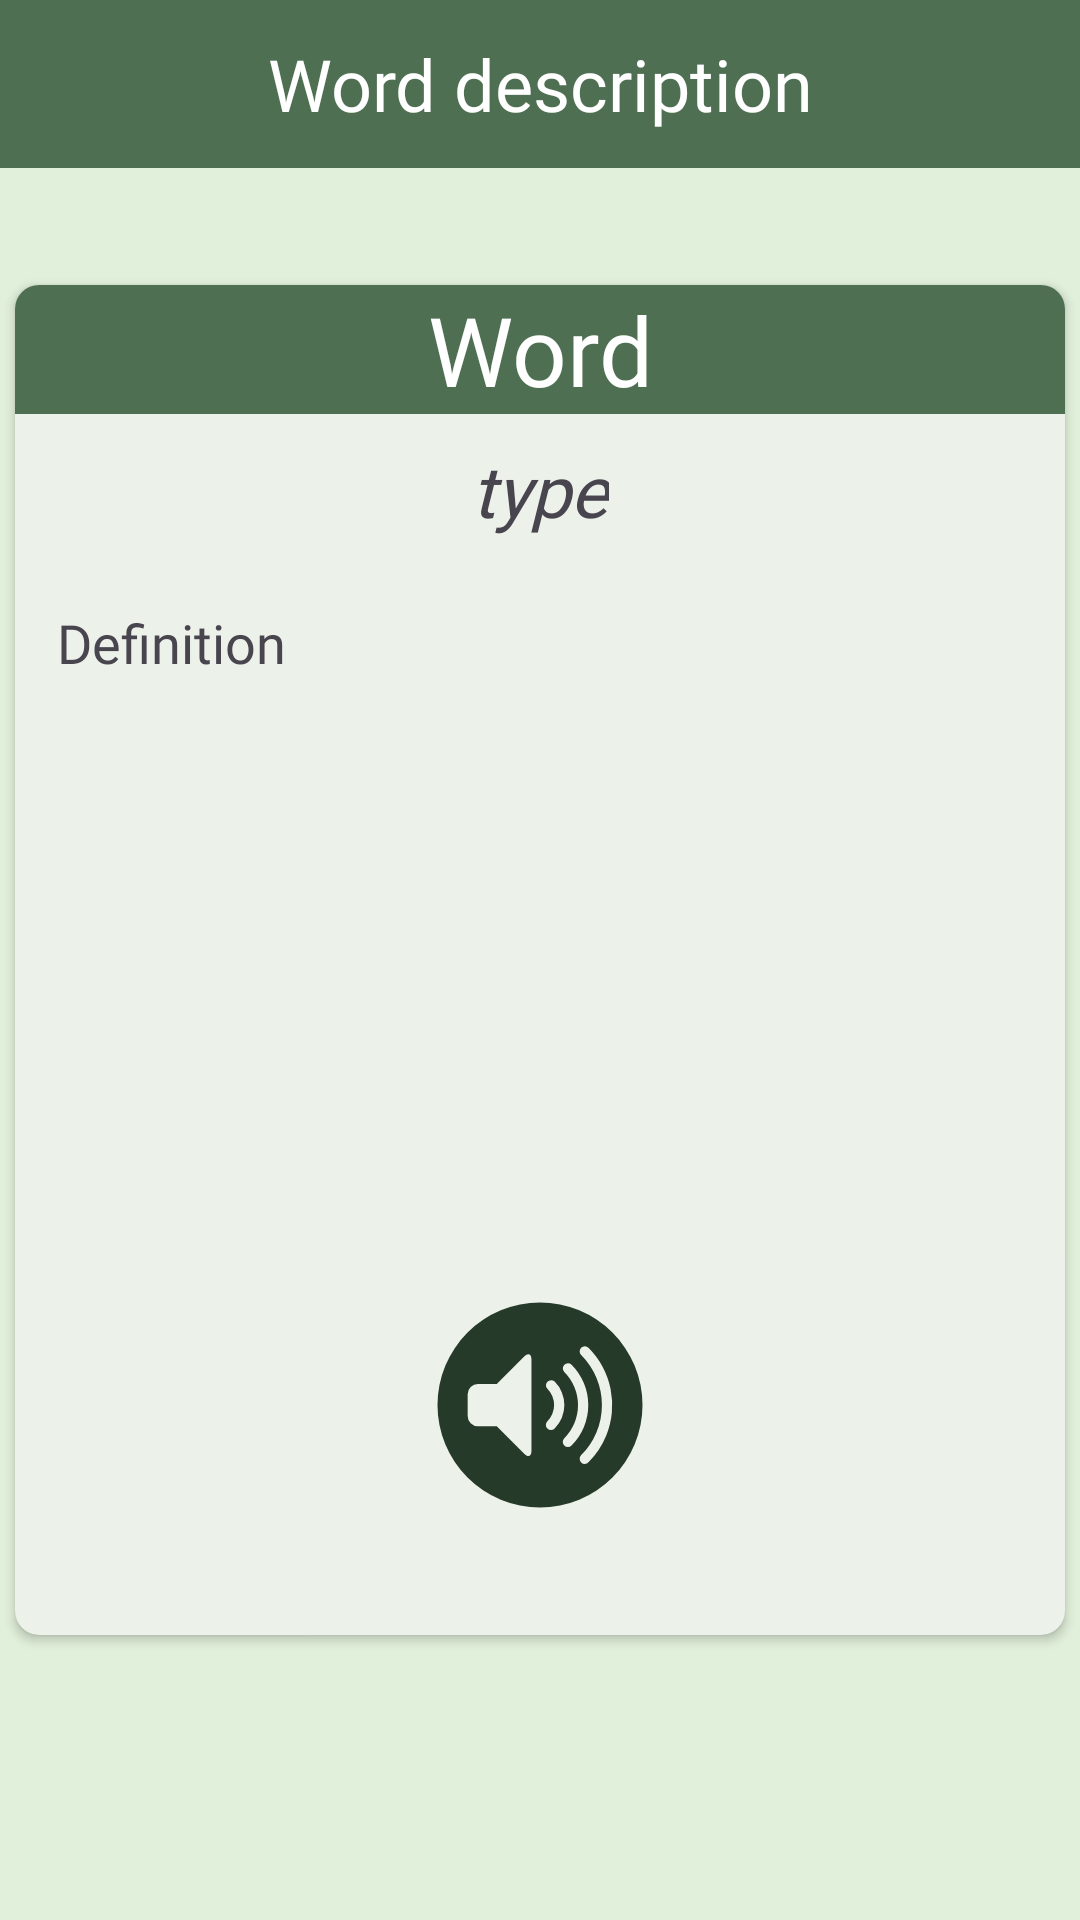

Named icons in this screenshot (1080w x 1920h) and their centers, (x=x, y=y):
audio high round: (x=540, y=1405)
